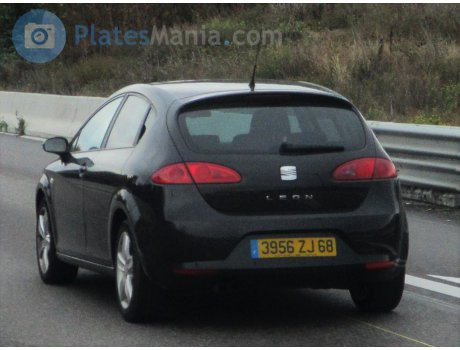licence plate: (251, 237, 338, 258)
